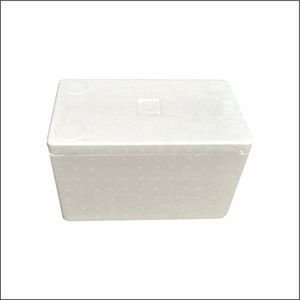5/可回收垃圾/泡沫: (47, 78, 252, 219)
